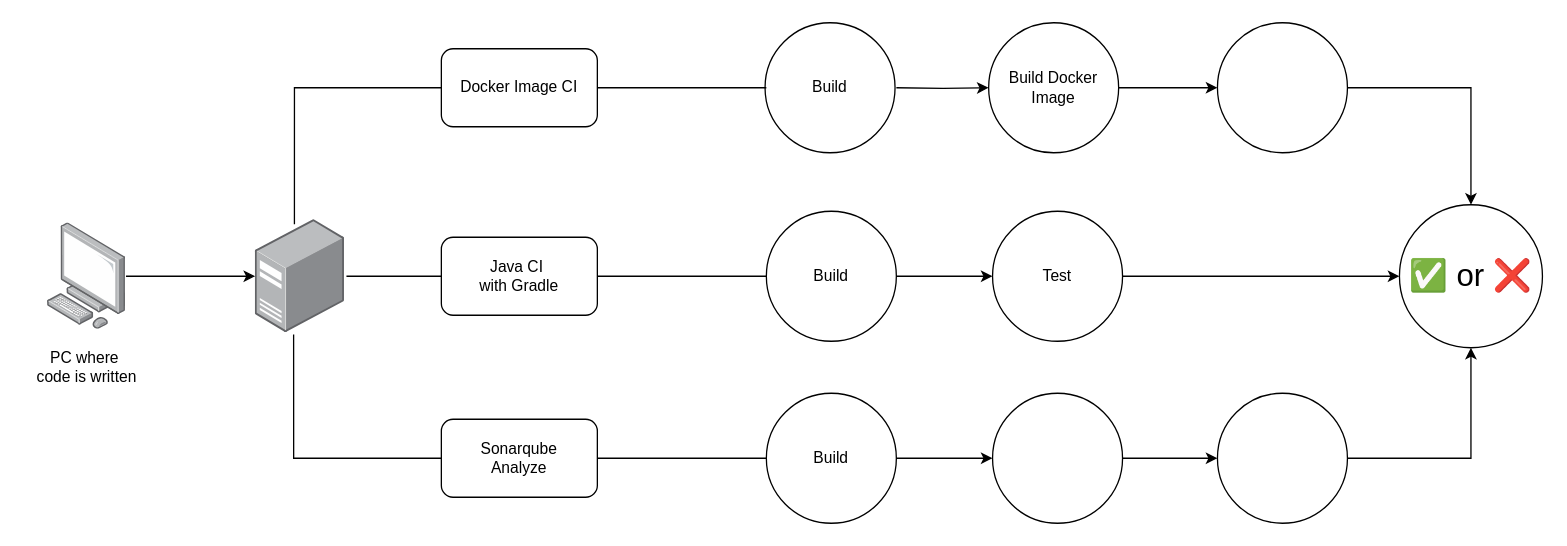
The diagram is 1567 pixels wide and 546 high, and some of its shapes have lost their labels. The centre of each missing label's shape, as x and y in pixels:
"Analysis" belongs at (1057,457).
"GitHub Server" belongs at (299,275).
"Push image to Docker Hub" belongs at (1281,87).
"Quality gate" belongs at (1281,457).
